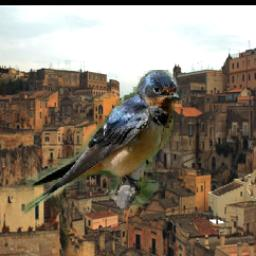Swallow: (22, 71, 181, 216)
